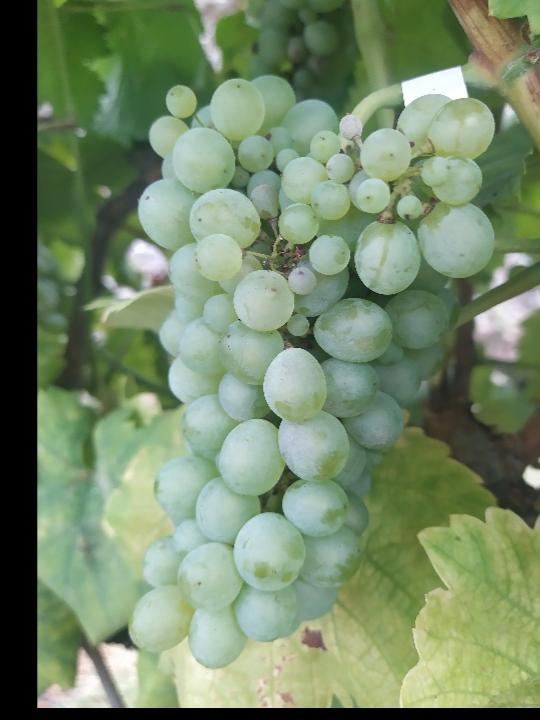grape: (123, 73, 499, 673)
